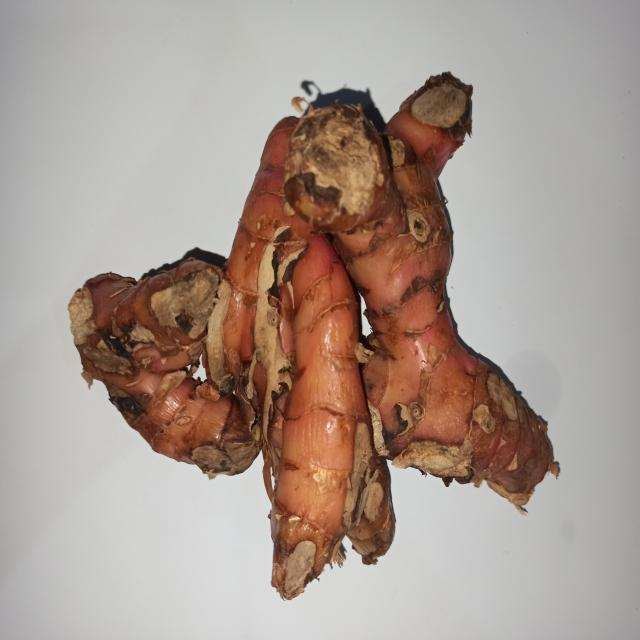ginger: (79, 66, 561, 538)
